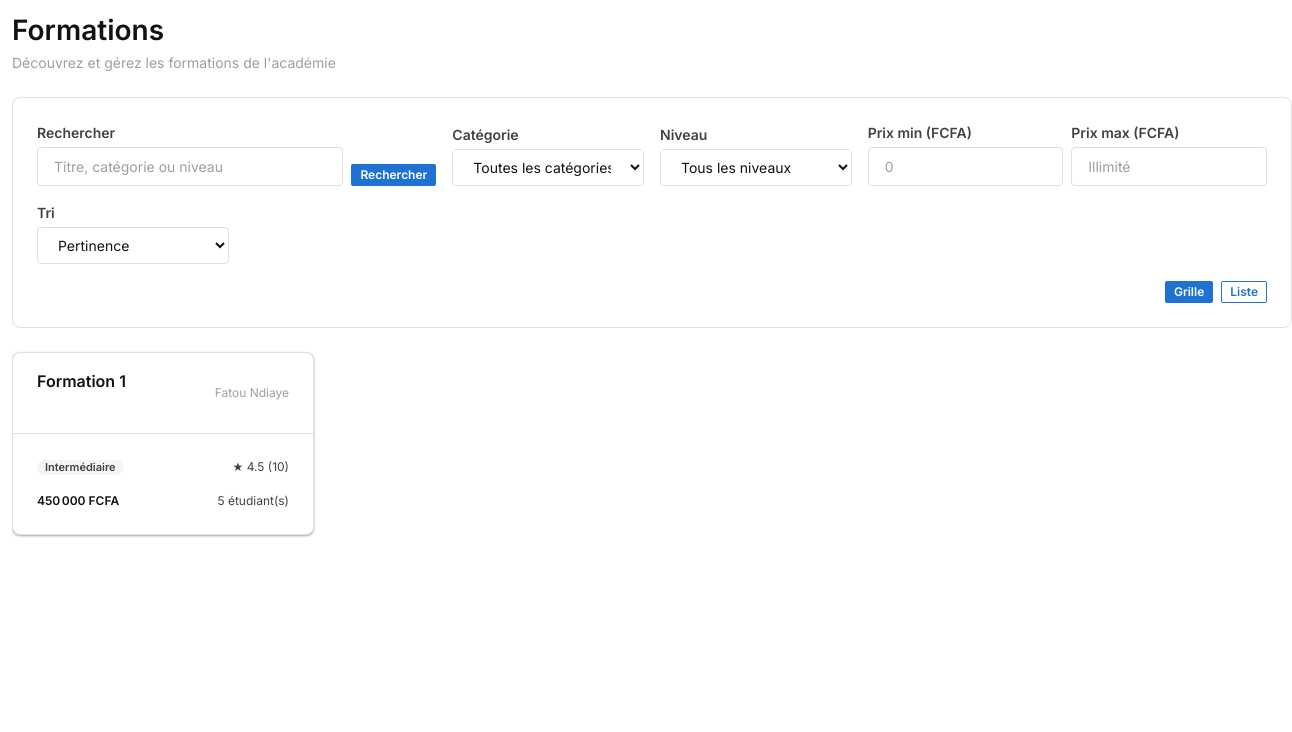
Scenario: FormationListComponent › should switch between grid and list views
The width and height of the screenshot is (1292, 732).
Expected: the element with class "formations__grid" is shown, [12,352,314,535]
What coordinates should you click on to do the following:
click the button "Liste"
I would click on:
 (1244, 292)
Its box is [1221,281,1267,303].
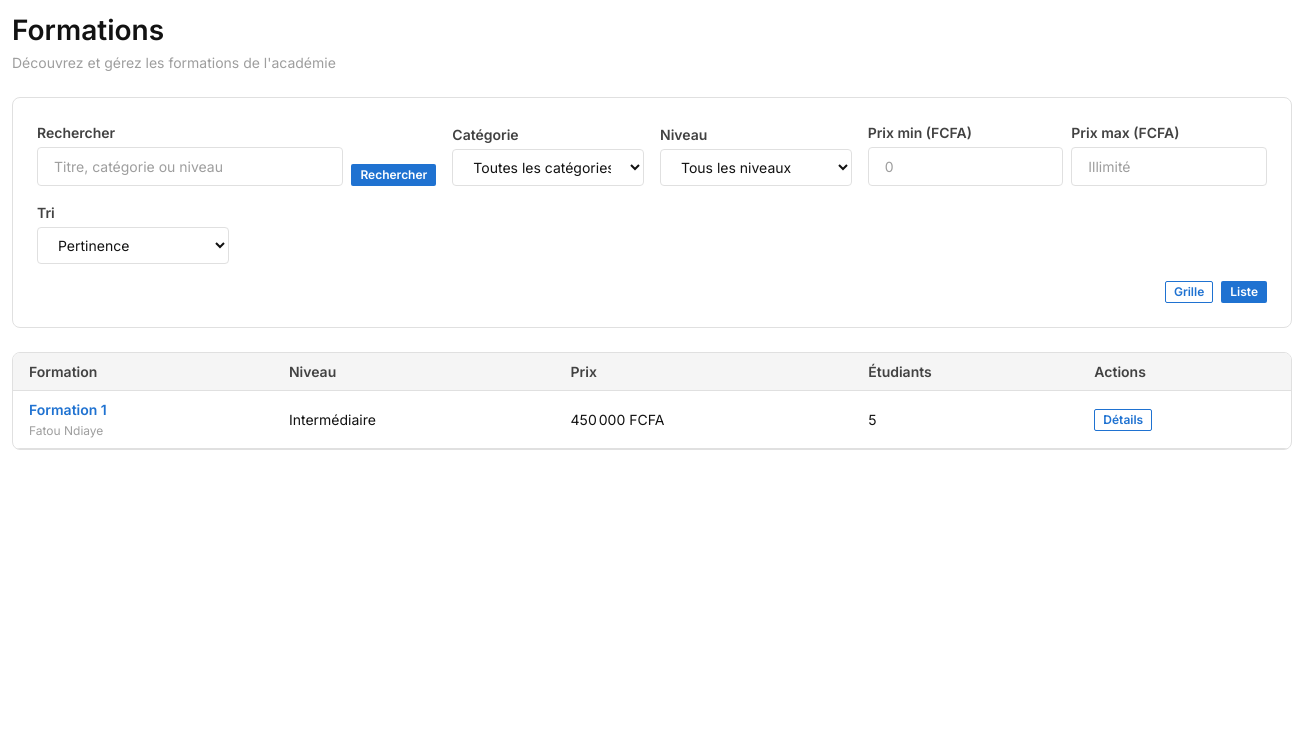
Expected: the element with class "formations__grid" is gone
Expected: the table with class "table" is shown, [13,353,1291,449]
